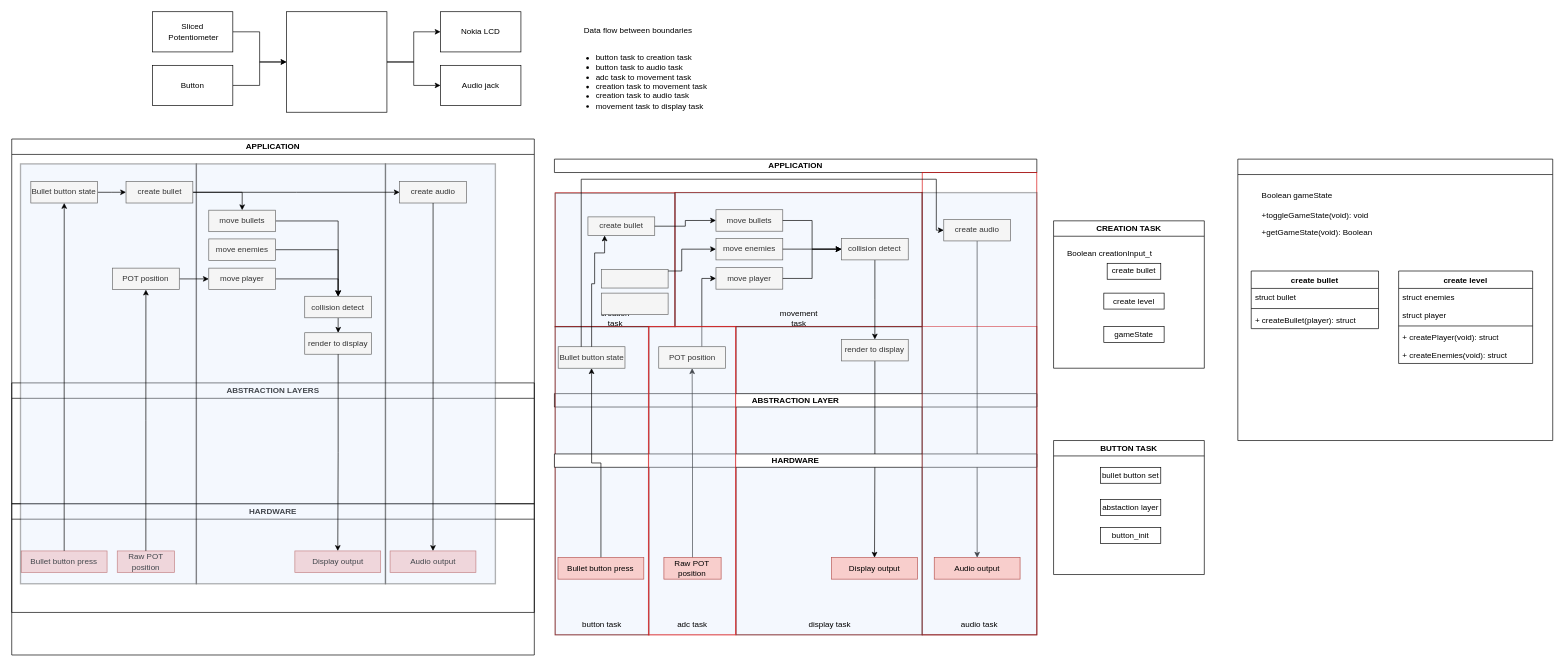
Image size: 1564x667. Some labels were removed from this diagram. The box of each missing label's shape, as (x1, y1, x2, y2) in pixels:
audio domain: (384, 163, 496, 584)
create enemies: (601, 269, 668, 288)
create player: (601, 292, 668, 315)
CREATION TASK DIAGRAM: (1237, 158, 1553, 441)
displaly domain: (195, 163, 386, 584)
input domain: (19, 163, 197, 584)
MCU: (286, 11, 387, 112)
